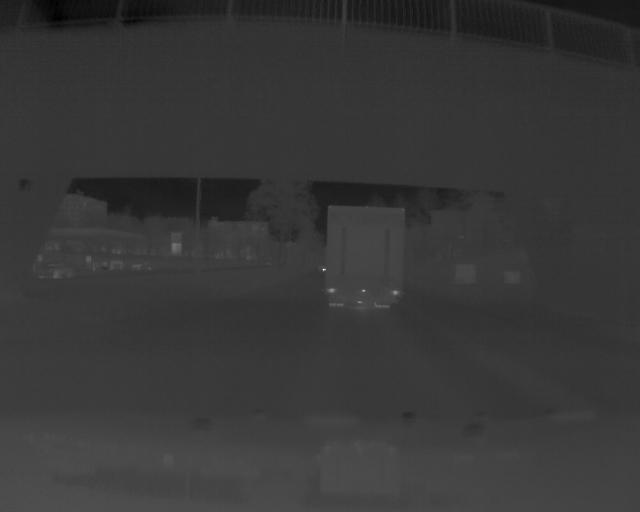car: (324, 203, 404, 309)
